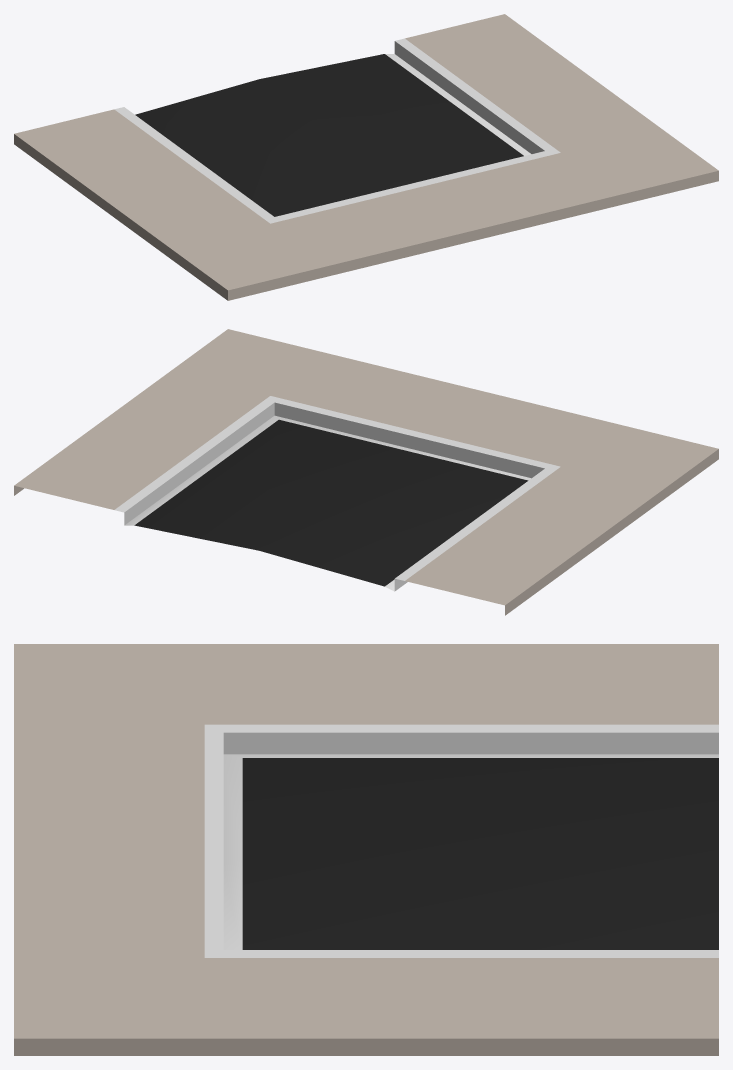
The model's file is Rua_Sem_Saida_2_Faixas.fbx.
3 views of the same model, one above another, from view 1: azimuth 30°, elevation 25°; view 2: azimuth 150°, elevation 25°; view 3: azimuth 270°, elevation 25° (orthographic). The views are drawn at different scales.
Visible parts, largest first — view 1: Rua_Sem_Saida_2_Faixas; view 2: Rua_Sem_Saida_2_Faixas; view 3: Rua_Sem_Saida_2_Faixas.
Part boxes in pixels (box(x1,y1,x2,y2)): Rua_Sem_Saida_2_Faixas: box(14, 14, 718, 300); Rua_Sem_Saida_2_Faixas: box(14, 329, 718, 615); Rua_Sem_Saida_2_Faixas: box(14, 644, 718, 1055).
Bounding box in the file's own units: 980 × 25 × 740.
